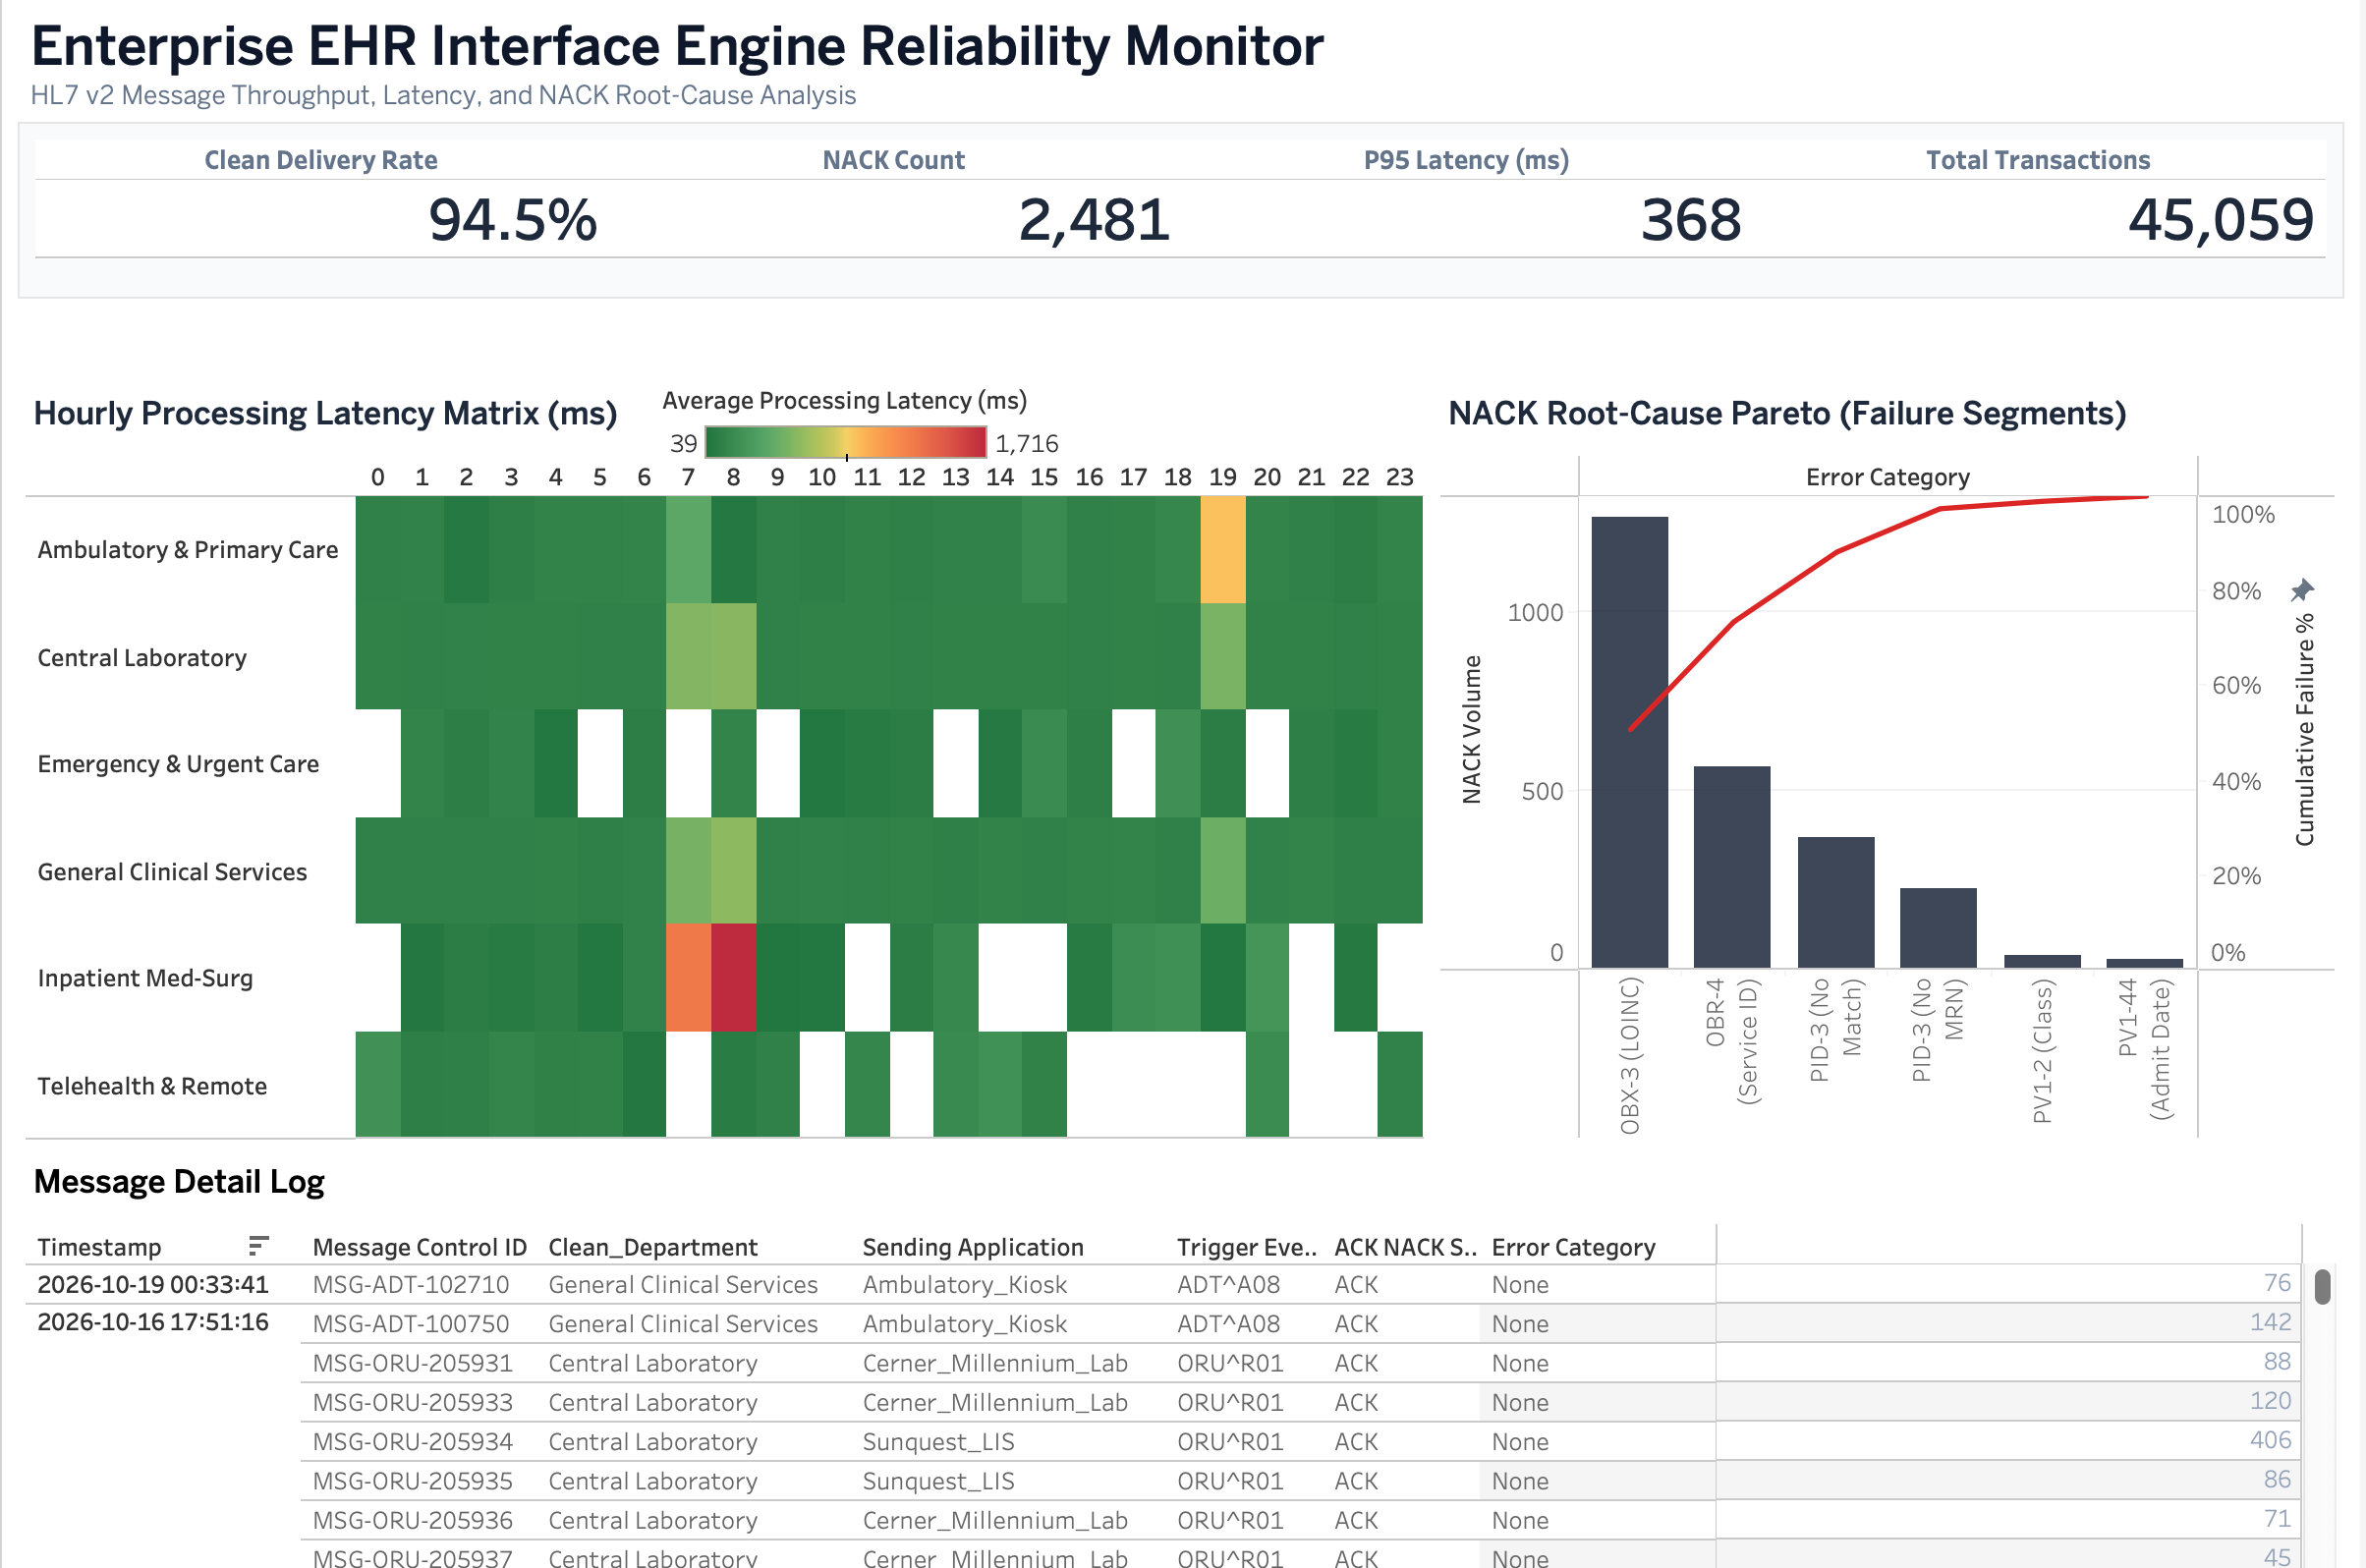

Layout of this report page (visuals, bound fields, positions):
{"tool":"tableau","page":{"name":"Dashboard 1","canvas":[1200,900],"ordinal":0},"visuals":[{"type":"text","box":[8,8,1184,58]},{"type":"worksheet","title":"Sheet 1","mark":"Text","box":[8,66,1184,90]},{"type":"worksheet","title":"Sheet 2","mark":"Square","rows":["Calculation_3163836358893581"],"cols":["Timestamp"],"box":[8,196.7,720,391.3]},{"type":"worksheet","title":"Sheet 3","mark":"Automatic","rows":["Calculation_3163836040663043","Calculation_3163836040663043"],"cols":["Calculation_3163837103878158"],"box":[728,196.7,464,391.3]},{"type":"legend","title":"Sheet 2","param":"[federated.1fi1nyx1mos61z0zkxigq1j25aqc].[usr:Calculation_3163836040769540:qk]","box":[335.6,199.2,207.3,55.1]},{"type":"worksheet","title":"Sheet 5","mark":"Automatic","rows":["Timestamp","Message_Control_ID","Calculation_3163836358893581","Sending_Application","Trigger_Event","ACK_NACK_Status","Calculation_3163837103878158"],"box":[8,588,1184,304]}]}

Visuals, with their boxes on the page's 1200x900 design canvas (x1, y1, x2, y2). These are canvas units, not pixel positions in the 2366x1568 screenshot, which may show the page scaled, cropped or inside an application window:
text: BBox(8, 8, 1192, 66)
"Sheet 1" worksheet (Text marks): BBox(8, 66, 1192, 156)
"Sheet 2" worksheet (Square marks): BBox(8, 197, 728, 588)
"Sheet 3" worksheet: BBox(728, 197, 1192, 588)
"Sheet 2" legend: BBox(336, 199, 543, 254)
"Sheet 5" worksheet: BBox(8, 588, 1192, 892)
